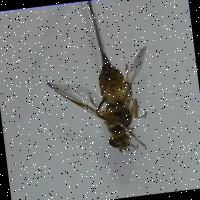Oriental-fruit-fly: (39, 34, 175, 170)
